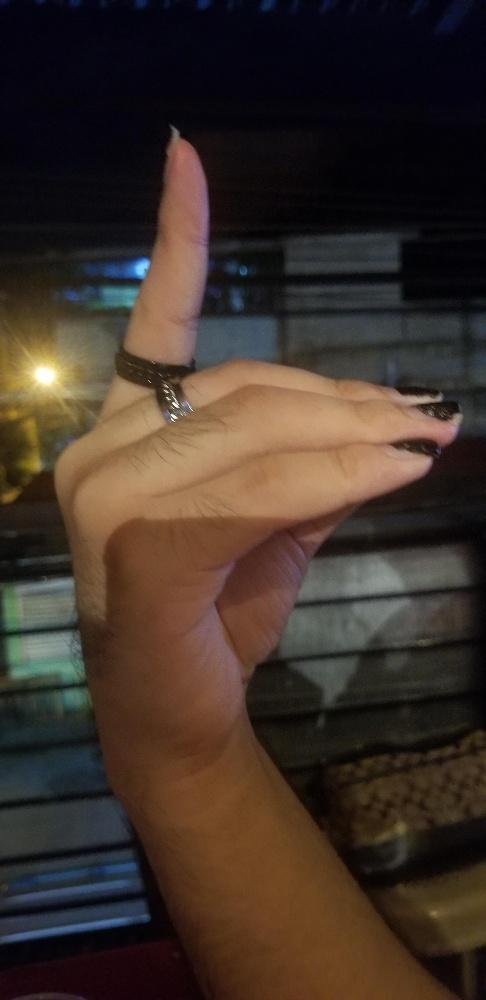d: (41, 119, 475, 798)
